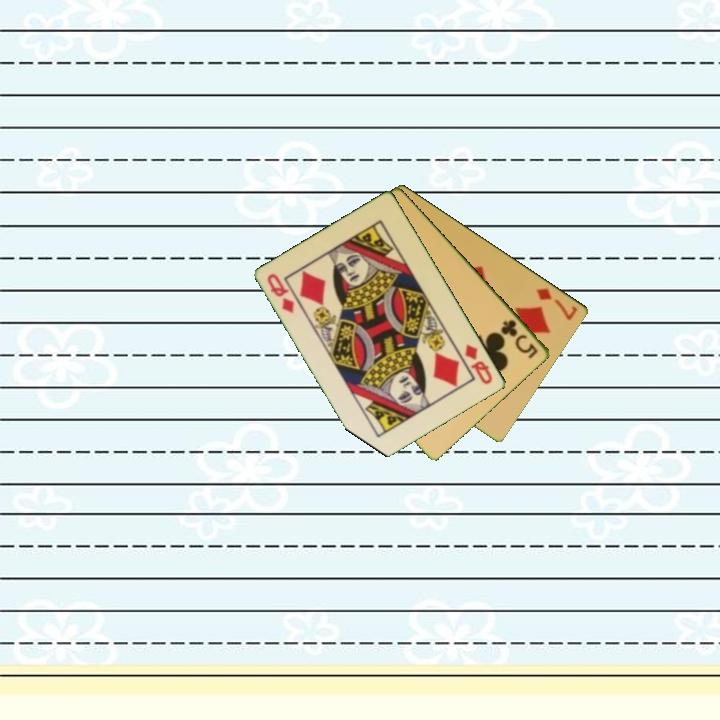5c: (498, 316, 541, 361)
7d: (533, 284, 580, 323)
Qd: (461, 341, 496, 388), (264, 270, 298, 316)
